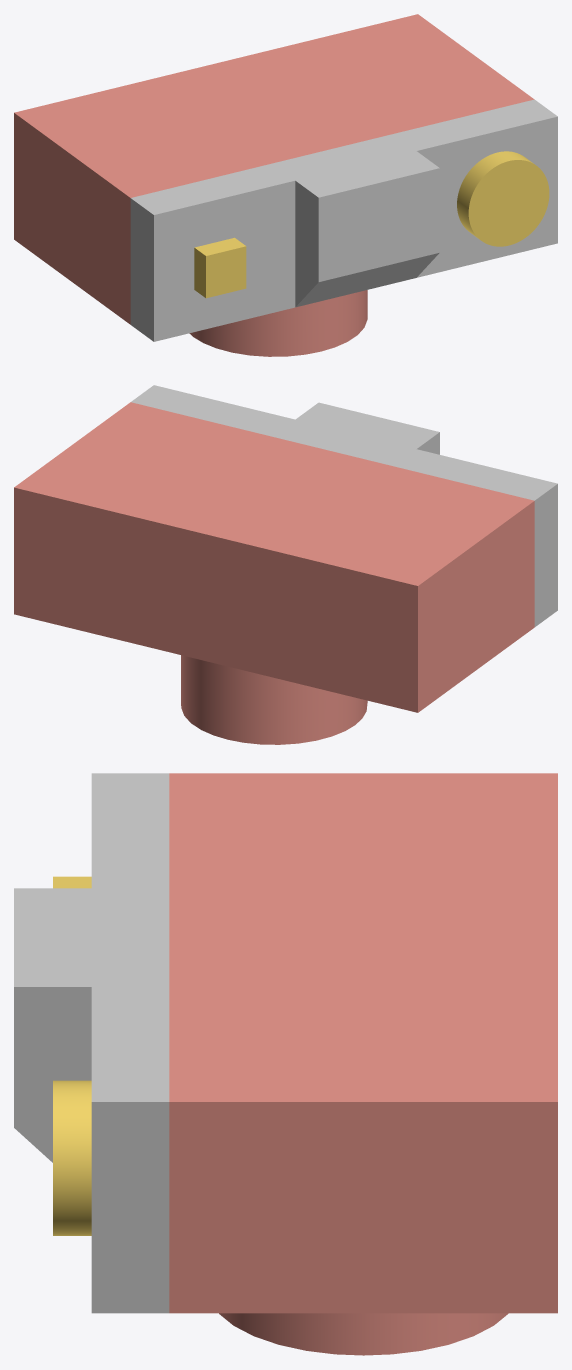
3 renders of one model, top to bottom at view 1: azimuth 30°, elevation 25°; view 2: azimuth 150°, elevation 25°; view 3: azimuth 270°, elevation 25°, orthographic. The views are drawn at different scales.
Parts seen in each view (by area): view 1: Body1, Body2, Body6, Body5, Body4; view 2: Body1, Body2, Body6; view 3: Body1, Body2, Body6, Body5.
Part boxes in pixels (bbox=[...]): Body1: bbox=[14, 14, 534, 356]; Body2: bbox=[130, 99, 557, 341]; Body6: bbox=[295, 151, 439, 307]; Body5: bbox=[457, 151, 549, 246]; Body4: bbox=[194, 237, 246, 298]; Body1: bbox=[14, 402, 534, 744]; Body2: bbox=[131, 385, 557, 626]; Body6: bbox=[295, 402, 439, 454]; Body1: bbox=[169, 773, 557, 1355]; Body2: bbox=[91, 773, 169, 1313]; Body6: bbox=[14, 888, 91, 1162]; Body5: bbox=[53, 1080, 91, 1235].
Size of the model in its own units: 0.1 by 0.05 by 0.07.
